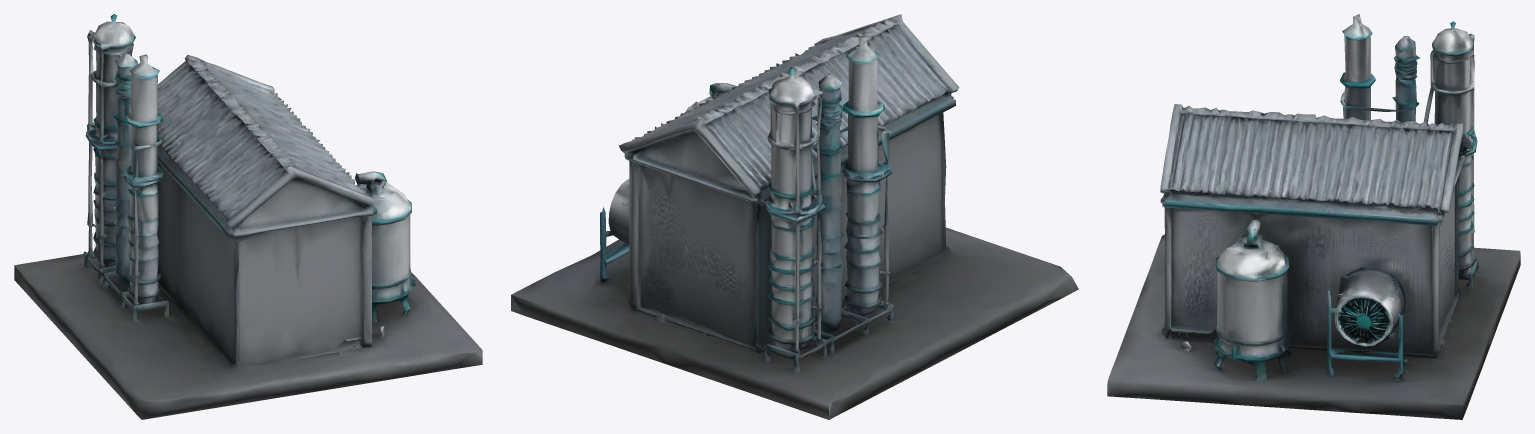
The model's file is industry.glb.
3 views of the same model, side by side, from view 1: azimuth 30°, elevation 25°; view 2: azimuth 150°, elevation 25°; view 3: azimuth 270°, elevation 25° (orthographic). The views are drawn at different scales.
Visible parts, largest first — view 1: tripo_node_8f026fbe-5646-4c05-b4d7-e276c30b74c6; view 2: tripo_node_8f026fbe-5646-4c05-b4d7-e276c30b74c6; view 3: tripo_node_8f026fbe-5646-4c05-b4d7-e276c30b74c6.
Part boxes in pixels (<box>): tripo_node_8f026fbe-5646-4c05-b4d7-e276c30b74c6: <box>14,14,482,419</box>; tripo_node_8f026fbe-5646-4c05-b4d7-e276c30b74c6: <box>511,14,1078,419</box>; tripo_node_8f026fbe-5646-4c05-b4d7-e276c30b74c6: <box>1107,14,1520,419</box>.
Bounding box in the file's own units: 1.14 × 0.8248 × 1.12.
1 material, 1 textured.
